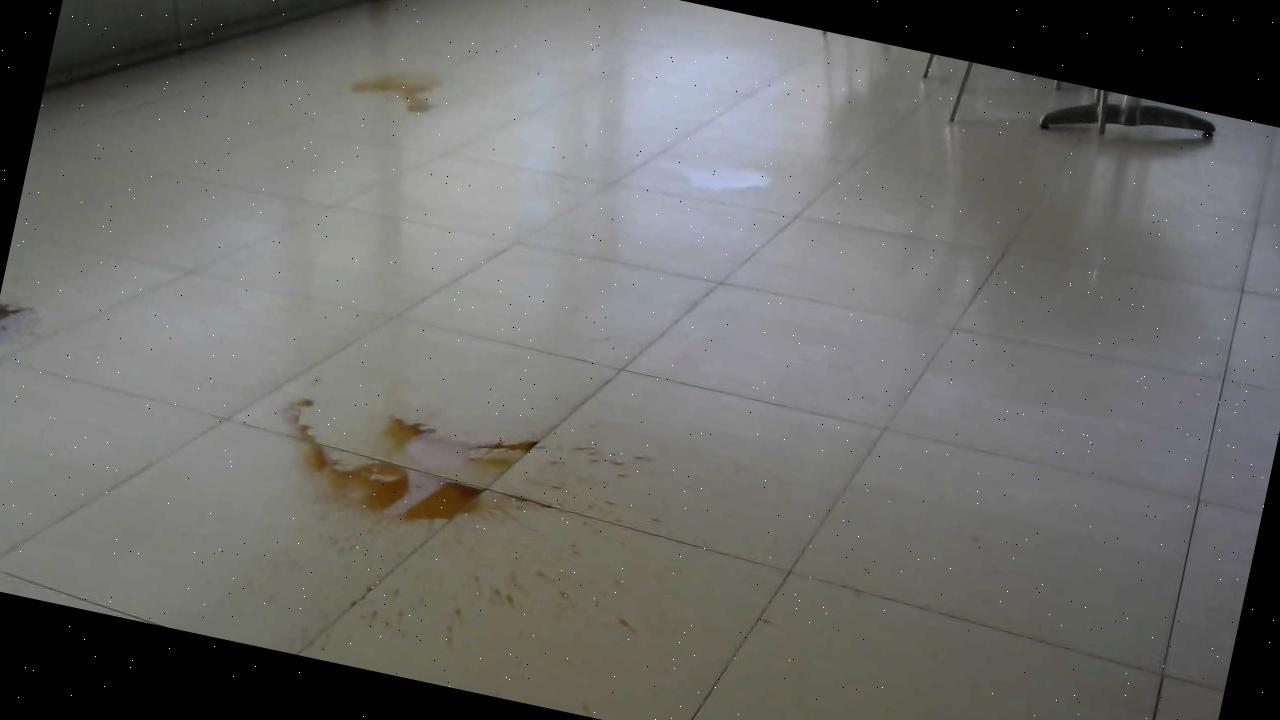dirty_floor: (237, 361, 664, 696), (657, 144, 781, 219), (341, 46, 455, 124)
